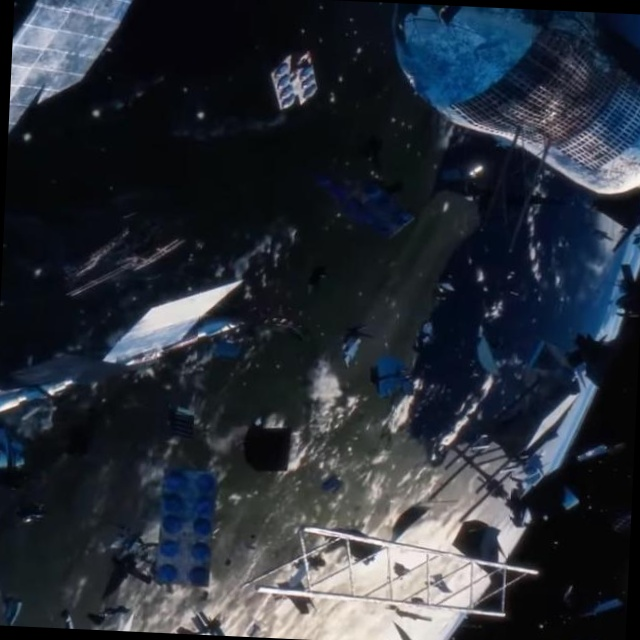large_debris: (370, 2, 640, 210), (378, 318, 594, 511), (257, 504, 547, 640), (7, 0, 158, 160), (93, 260, 261, 379), (140, 452, 234, 599), (262, 41, 333, 118)
